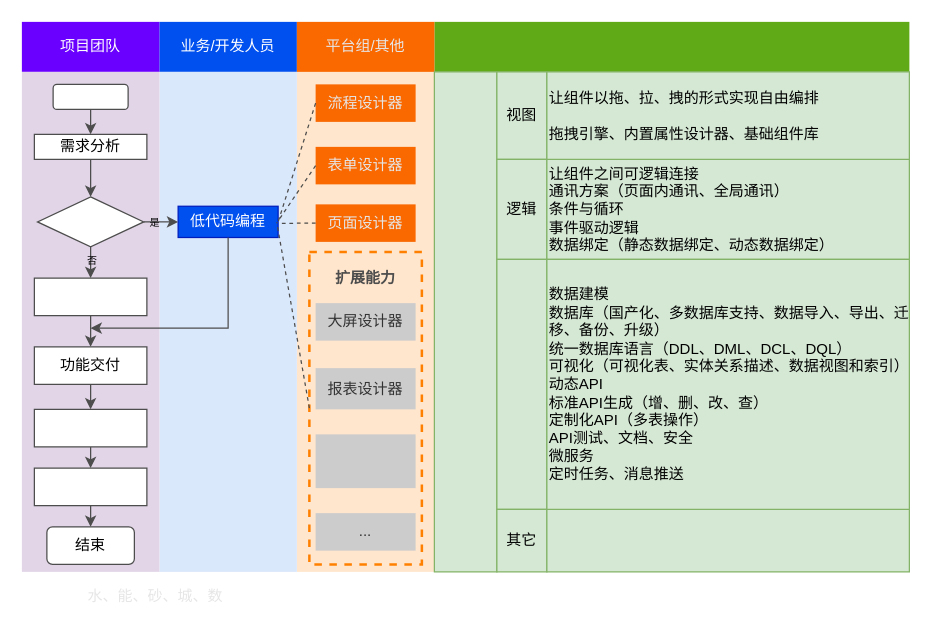
This 931x636 diagram has some shape labels left out. The box of each missing label's shape, as (x1, y1, x2, y2) in pixels:
Schema （协议）: (433, 71, 497, 572)
低代码业务: (36, 196, 144, 247)
可视化汇报设计器: (315, 434, 415, 488)
国际化、主题、权限、版本、文档: (546, 508, 909, 572)
平台组: (434, 21, 909, 71)
开始: (52, 83, 128, 109)
数据: (496, 258, 547, 509)
源码编程: (33, 277, 147, 316)
项目交付: (33, 467, 147, 506)
项目测试: (33, 408, 147, 447)
